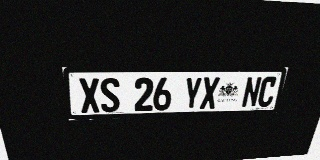2: (135, 77, 153, 111)
6: (153, 77, 172, 111)
C: (256, 76, 278, 107)
N: (241, 77, 262, 108)
S: (99, 78, 120, 112)
X: (78, 78, 101, 113), (199, 77, 220, 109)
Y: (182, 77, 202, 110)
